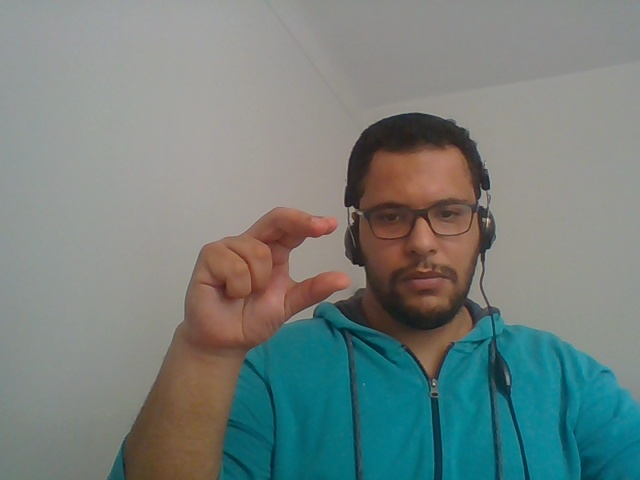no: (167, 196, 359, 362)
